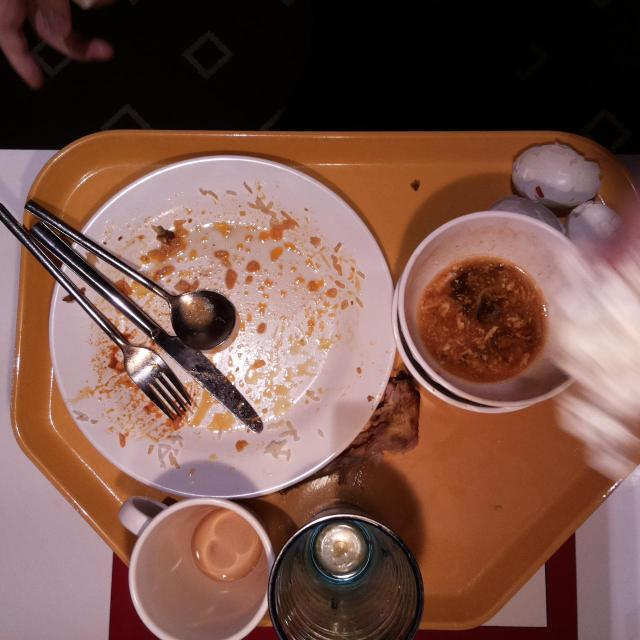Bone: (274, 371, 420, 496)
Egg-shell: (510, 140, 602, 213), (566, 199, 624, 251)
